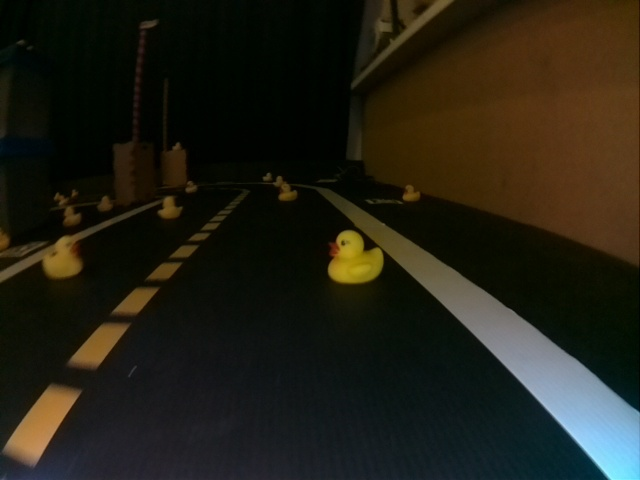Duckie: (331, 230, 384, 283), (45, 239, 82, 279), (158, 197, 180, 216), (62, 208, 80, 225), (280, 183, 296, 201), (402, 185, 419, 201), (99, 197, 113, 210), (185, 181, 197, 192)
